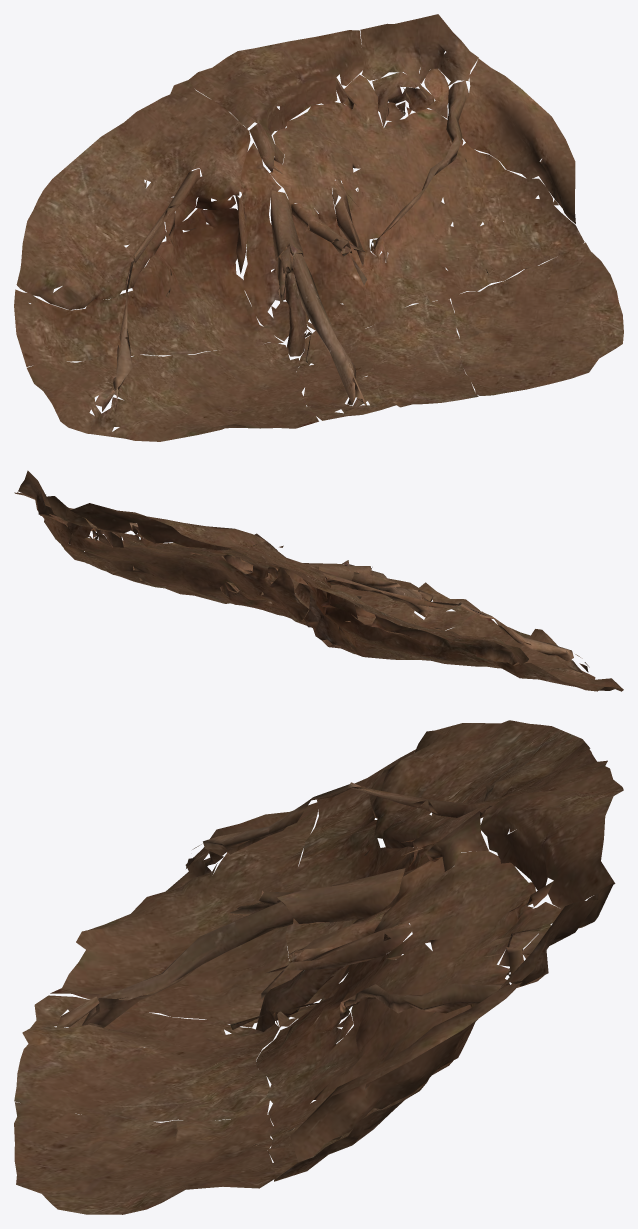
Rendered from root_cluster_01.glb.
3 views of the same model, one above another, from view 1: azimuth 30°, elevation 25°; view 2: azimuth 150°, elevation 25°; view 3: azimuth 270°, elevation 25° (orthographic). The views are drawn at different scales.
Parts seen in each view (by area): view 1: root_cluster_01; view 2: root_cluster_01; view 3: root_cluster_01.
Boxes of the visible parts, <box> form: root_cluster_01: <box>14,14,623,441</box>; root_cluster_01: <box>14,470,623,691</box>; root_cluster_01: <box>14,720,623,1214</box>.
Bounding box in the file's own units: 4.12 × 1.5 × 2.68.
1 material, 1 textured.
